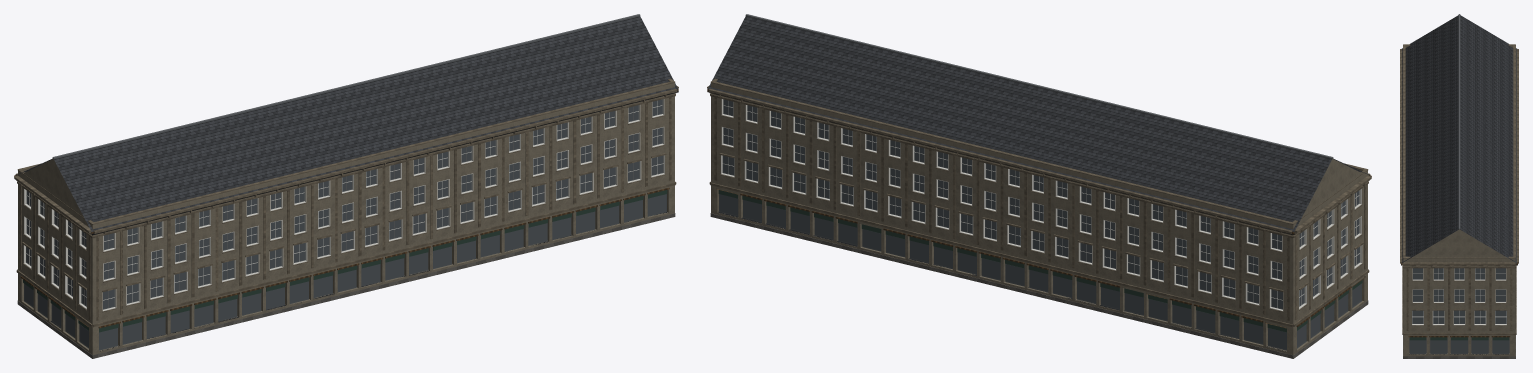
Rendered from A_office_row.glb.
3 renders of one model, left to right at view 1: azimuth 30°, elevation 25°; view 2: azimuth 150°, elevation 25°; view 3: azimuth 270°, elevation 25°, orthographic. The views are drawn at different scales.
Visible parts, largest first — view 1: A_office_row; view 2: A_office_row; view 3: A_office_row.
Part boxes in pixels (x1,y1,x2,y2): A_office_row: (14, 14, 678, 358); A_office_row: (707, 14, 1371, 358); A_office_row: (1400, 14, 1518, 358).
Bounding box in the file's own units: 72.98 × 20.61 × 16.98.
14 materials, 9 textured.
